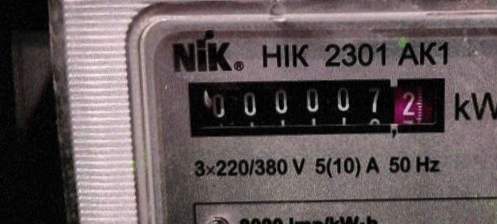0: (302, 85, 319, 113), (208, 91, 225, 118), (271, 86, 287, 114), (240, 89, 256, 116), (334, 85, 349, 113)
2: (399, 90, 415, 116)
7: (365, 84, 380, 114)
screen: (175, 69, 455, 144)
